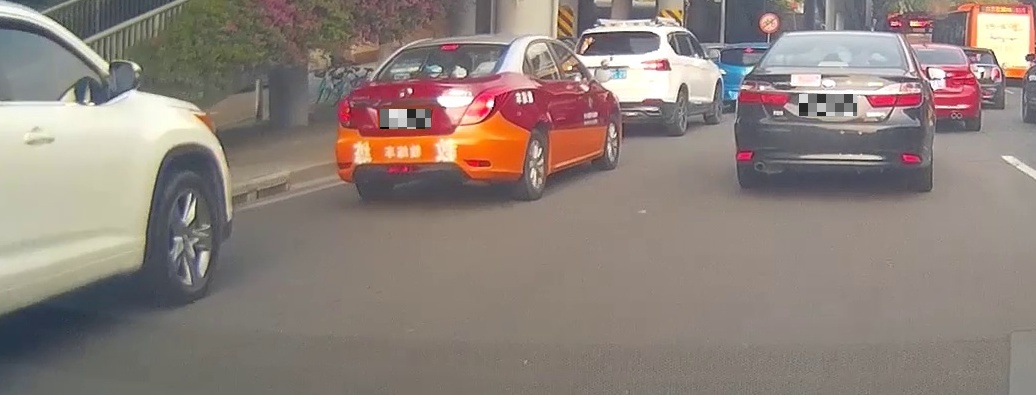L_light: (736, 80, 791, 105), (337, 97, 352, 128)
R_light: (457, 85, 514, 126), (866, 81, 923, 108)
T_light: (817, 60, 849, 68), (439, 43, 460, 51)
day-brake: (333, 34, 528, 206)
day-no: (733, 30, 932, 190)
plate_1: (380, 109, 431, 129)
plate_2: (799, 94, 857, 116)
